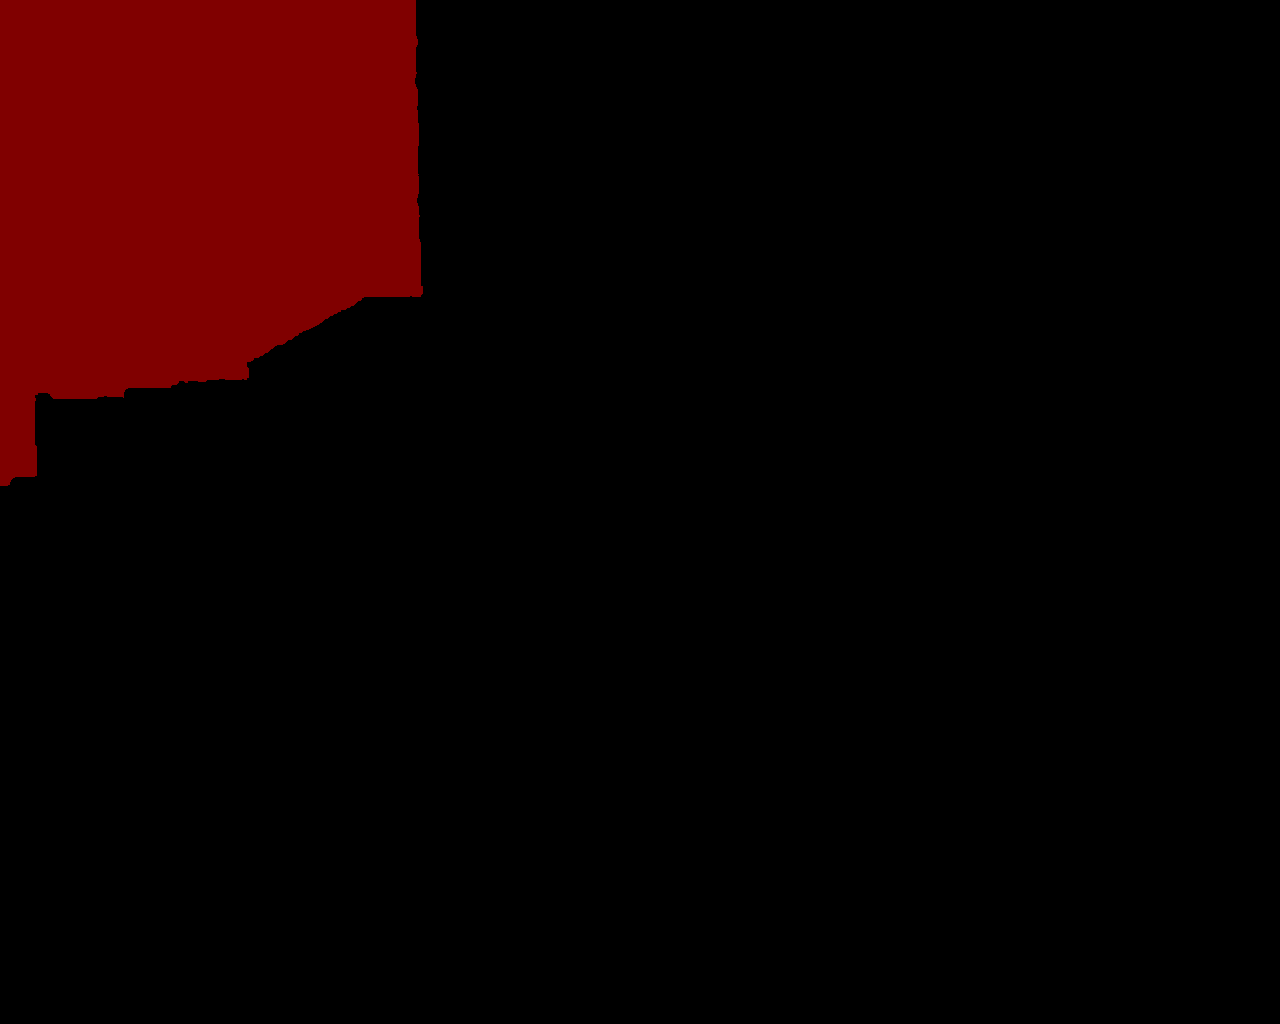Sky: (1, 1, 423, 486)
